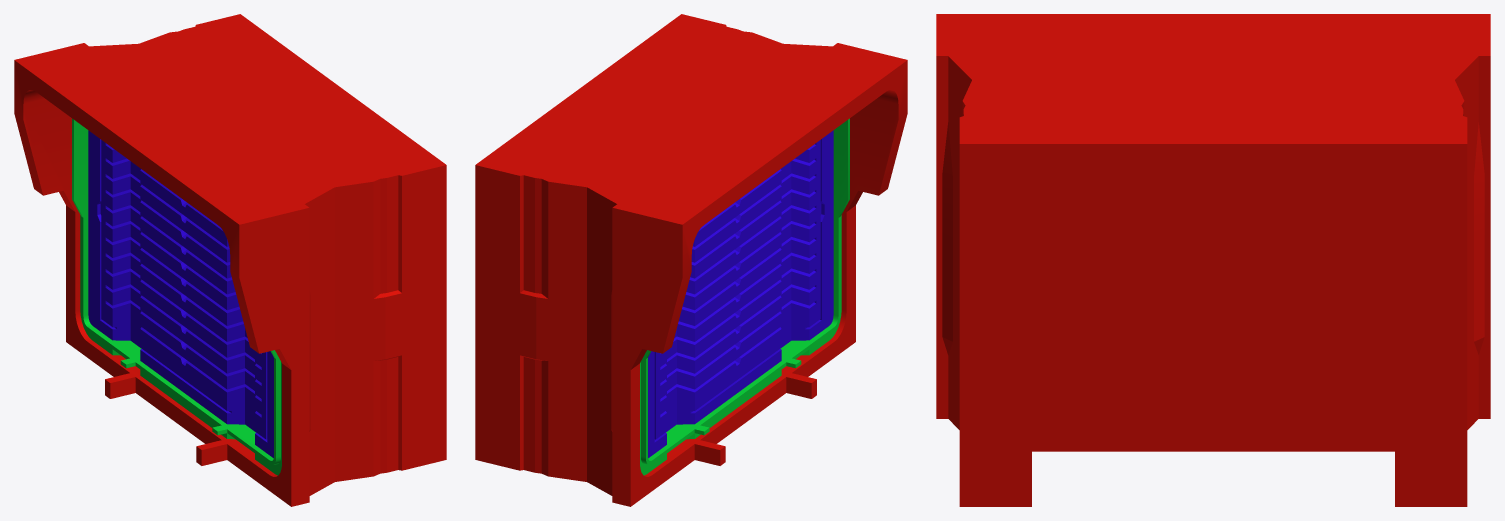
File: Scifi_Prop_Vent_A.fbx
3 renders of one model, left to right at view 1: azimuth 30°, elevation 25°; view 2: azimuth 150°, elevation 25°; view 3: azimuth 270°, elevation 25°, orthographic. The views are drawn at different scales.
Visible parts, largest first — view 1: Vent_A_Wall; view 2: Vent_A_Wall; view 3: Vent_A_Wall.
Part boxes in pixels (x1,y1,x2,y2): Vent_A_Wall: [14, 14, 446, 506]; Vent_A_Wall: [475, 14, 907, 506]; Vent_A_Wall: [936, 14, 1490, 506].
Size of the model in its own units: 200 by 260 by 360.
